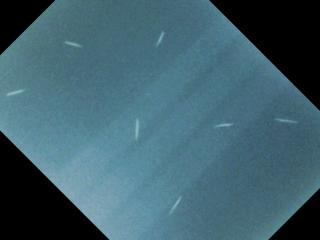scratch: (0, 83, 34, 102), (58, 33, 88, 54), (166, 190, 185, 223), (209, 116, 238, 135), (128, 115, 146, 144), (151, 27, 170, 52), (271, 114, 303, 127)
